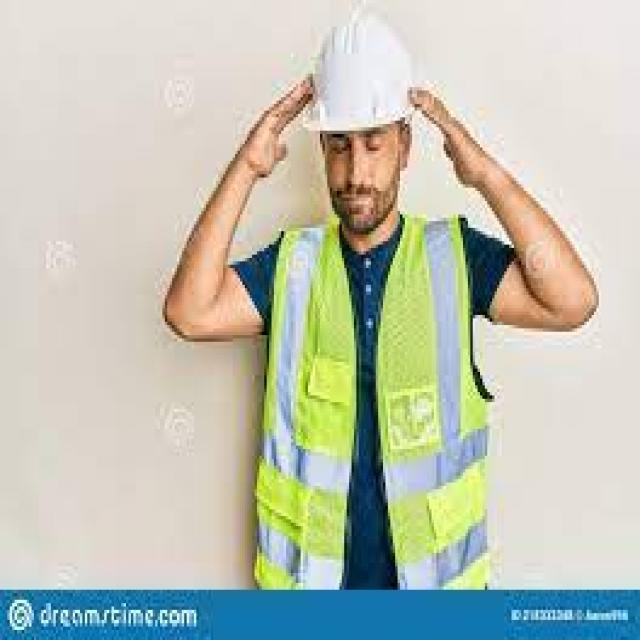Reflective-Jacket: (248, 208, 504, 593)
Safety-Helmet: (300, 10, 420, 144)
